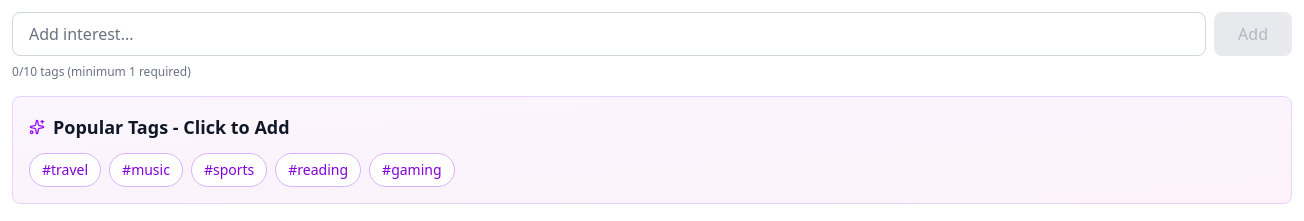
TagSelector Component › Validation and Errors › should show validation error for invalid tag
This screenshot has width=1304, height=221.
Type "a" into the field with placeholder "Add interest..." at (609, 34), box 12,12 -> 1206,56
Then press Enter
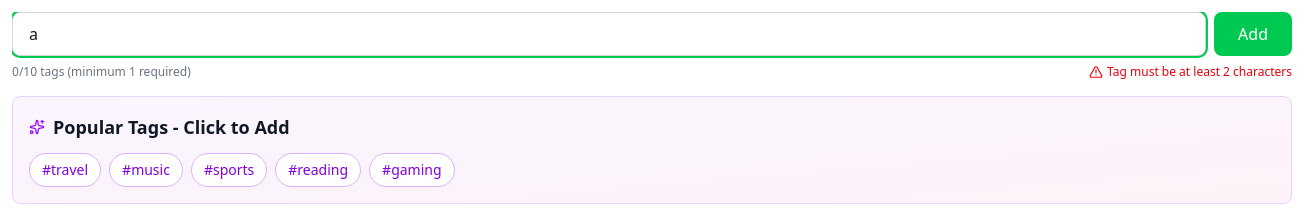
Expected: the text "Tag must be at least 2 characters" is shown, 1089,64 -> 1292,80
